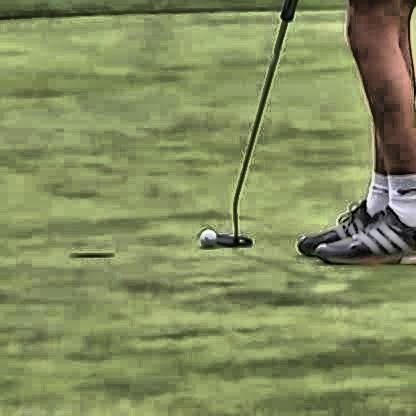golfball: (198, 225, 216, 244)
